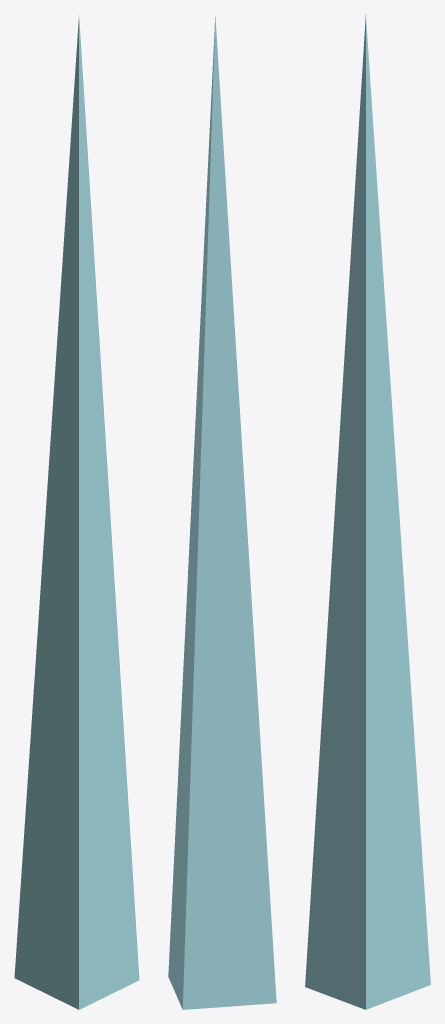
3 views of the same model, side by side, from view 1: azimuth 90°, elevation 25°; view 2: azimuth 150°, elevation 25°; view 3: azimuth 270°, elevation 25° (orthographic).
Parts seen in each view (by area): view 1: Plane.003; view 2: Plane.003; view 3: Plane.003.
Part boxes in pixels (x1,y1,x2,y2): Plane.003: (14,15,139,1009); Plane.003: (168,16,276,1009); Plane.003: (305,14,430,1009).
Bounding box in the file's own units: 123 × 1057 × 124.
